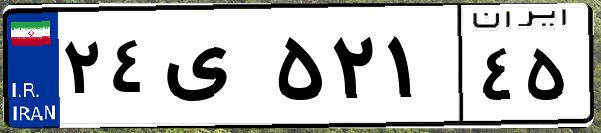1: (385, 28, 445, 110)
2: (330, 28, 385, 110), (57, 26, 110, 100)
4: (475, 38, 525, 113), (110, 28, 158, 98)
5: (270, 28, 330, 110), (525, 38, 570, 115)
ی: (158, 20, 270, 120)
